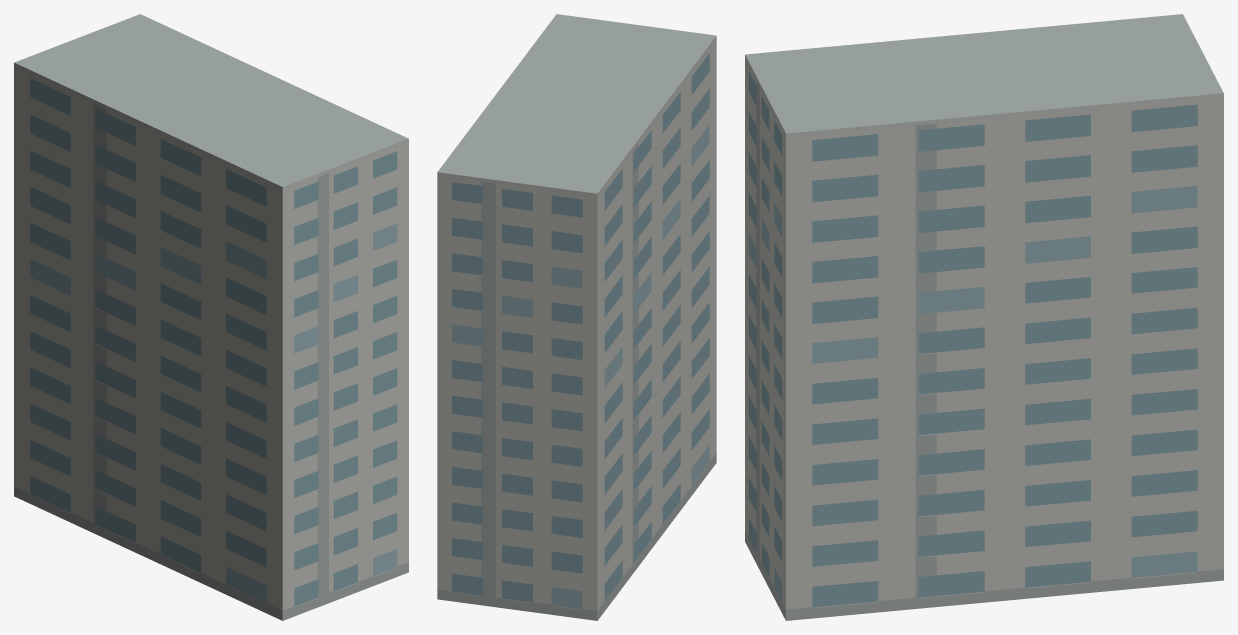
Rendered from residential-cbd97bde-8a16-483c-b000-d2bc3b4ec78b.glb.
The picture shows the model from 3 angles, left to right: view 1: azimuth 30°, elevation 25°; view 2: azimuth 150°, elevation 25°; view 3: azimuth 270°, elevation 25°; orthographic projection. The views are drawn at different scales.
Visible parts, largest first — view 1: residential-cbd97bde-8a16-483c-b000-d2bc3b4ec78b.tmp; view 2: residential-cbd97bde-8a16-483c-b000-d2bc3b4ec78b.tmp; view 3: residential-cbd97bde-8a16-483c-b000-d2bc3b4ec78b.tmp.
Part boxes in pixels (left/top/right/bottom): residential-cbd97bde-8a16-483c-b000-d2bc3b4ec78b.tmp: left=14, top=14, right=408, bottom=620; residential-cbd97bde-8a16-483c-b000-d2bc3b4ec78b.tmp: left=437, top=14, right=716, bottom=620; residential-cbd97bde-8a16-483c-b000-d2bc3b4ec78b.tmp: left=745, top=14, right=1223, bottom=620.
Size of the model in its own units: 15.8 by 30 by 26.72.
